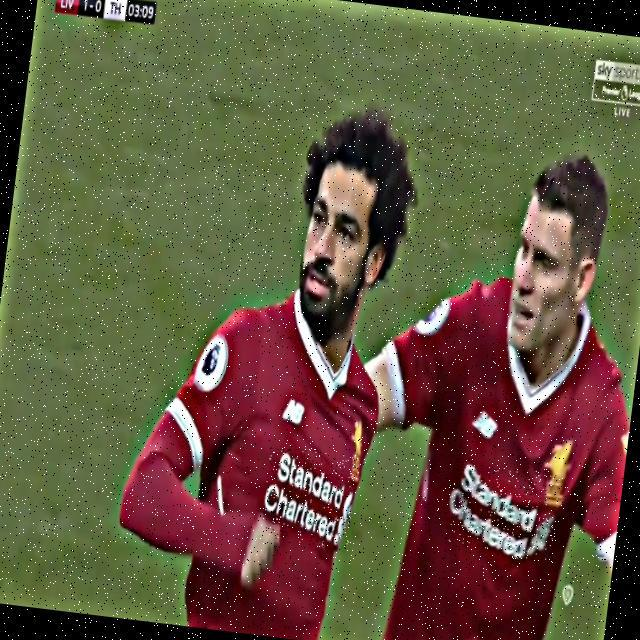Standard Chartered: (443, 460, 560, 561), (259, 446, 359, 548)
